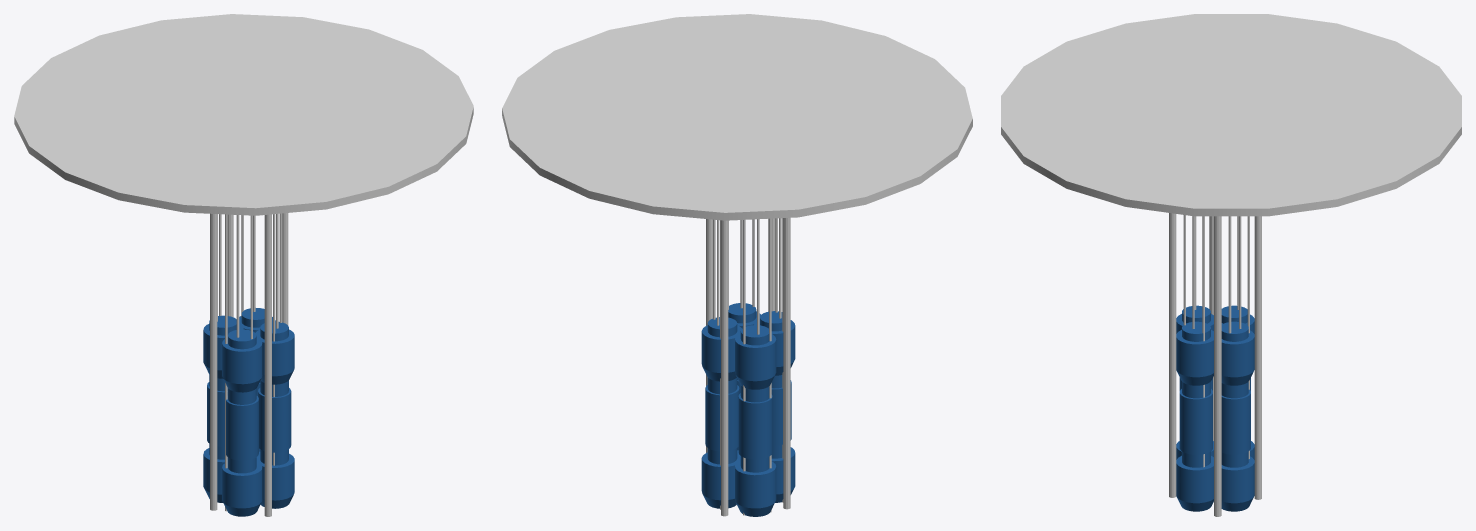
Rendered from NuclearPlant.fbx.
The picture shows the model from 3 angles, left to right: view 1: azimuth 30°, elevation 25°; view 2: azimuth 150°, elevation 25°; view 3: azimuth 270°, elevation 25°; orthographic projection. The views are drawn at different scales.
Parts seen in each view (by area): view 1: polySurface154; view 2: polySurface154; view 3: polySurface154.
Boxes of the visible parts, <box> form: polySurface154: <box>14,14,473,516</box>; polySurface154: <box>502,14,972,516</box>; polySurface154: <box>1001,14,1461,516</box>.
Bounding box in the file's own units: 13.81 × 12.8 × 13.81.
